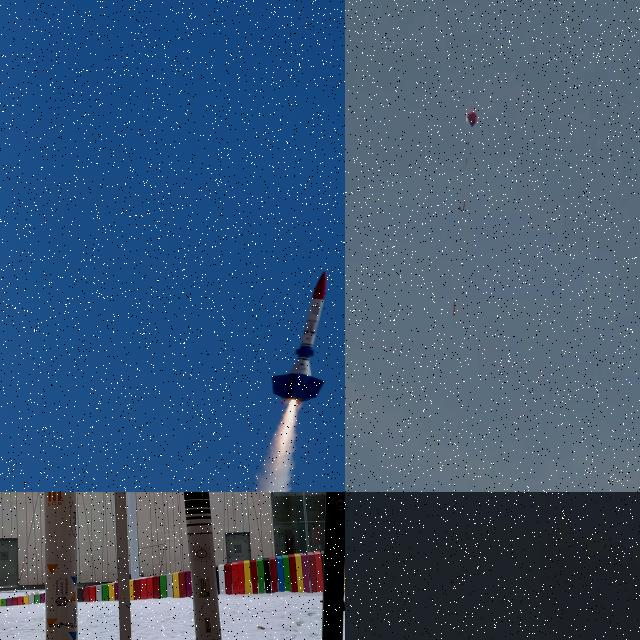Rocket: (270, 270, 328, 404), (183, 492, 222, 640), (44, 492, 78, 640), (320, 492, 345, 640), (453, 301, 455, 316)
